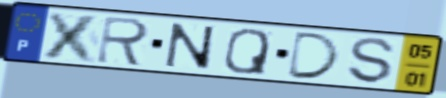D: (283, 30, 343, 82)
N: (163, 21, 217, 72)
Q: (222, 27, 272, 77)
R: (93, 14, 153, 69)
S: (347, 36, 398, 86)
X: (39, 10, 105, 65)
